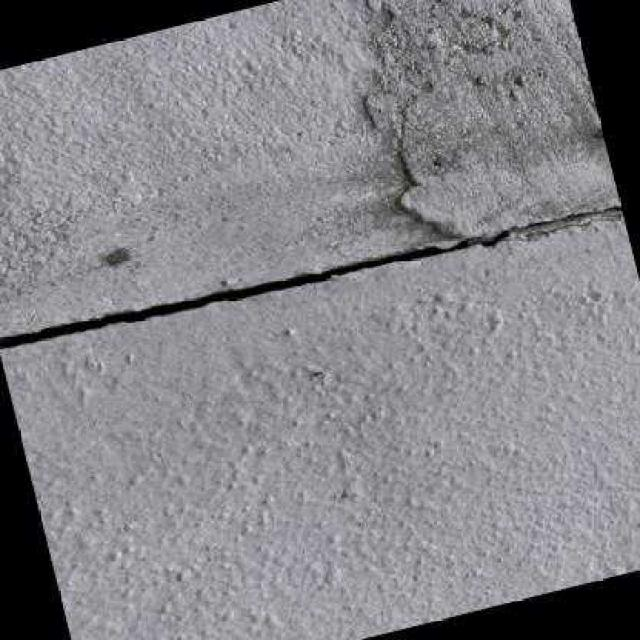D00: (0, 204, 624, 350)
